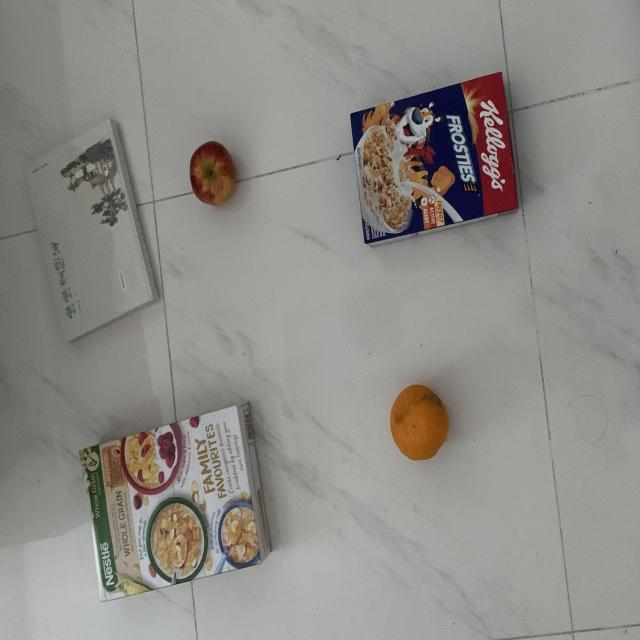Apple: (185, 138, 240, 210)
Book: (21, 116, 165, 345)
Cerealbox: (76, 400, 274, 604), (349, 71, 521, 247)
Orange: (389, 382, 449, 465)
